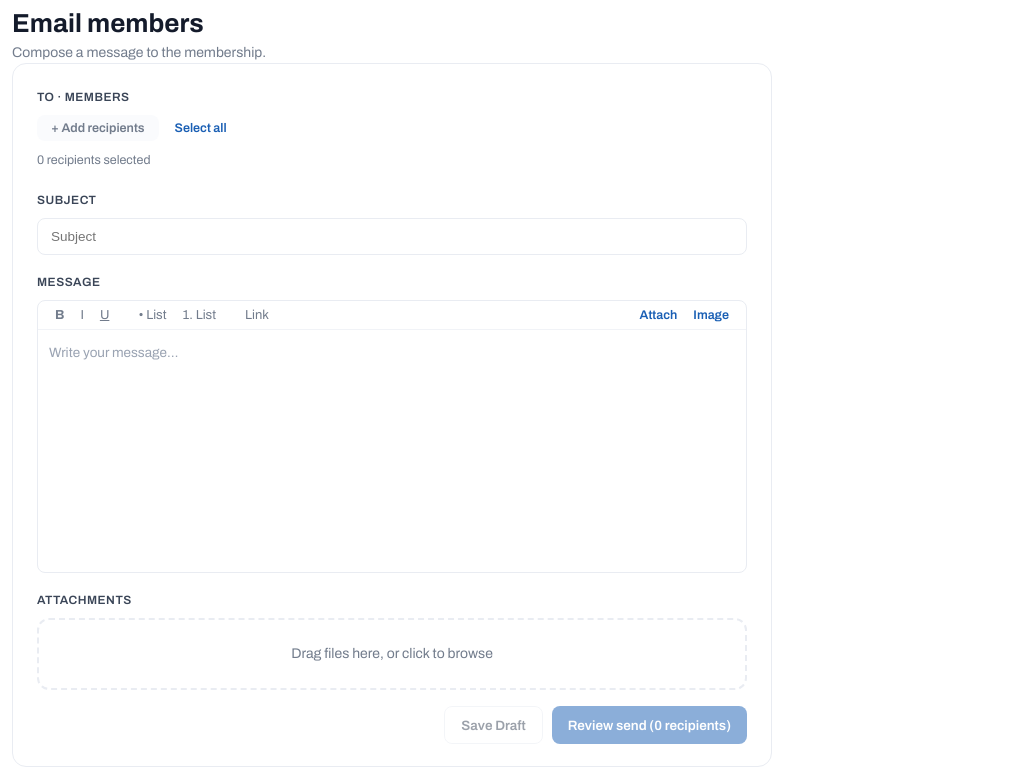
Test: MembersEmail › selects and clears every recipient via the top-level Select all action
The image size is (1036, 780).
Click the button "Select all": click(201, 128) [167,115,235,141]
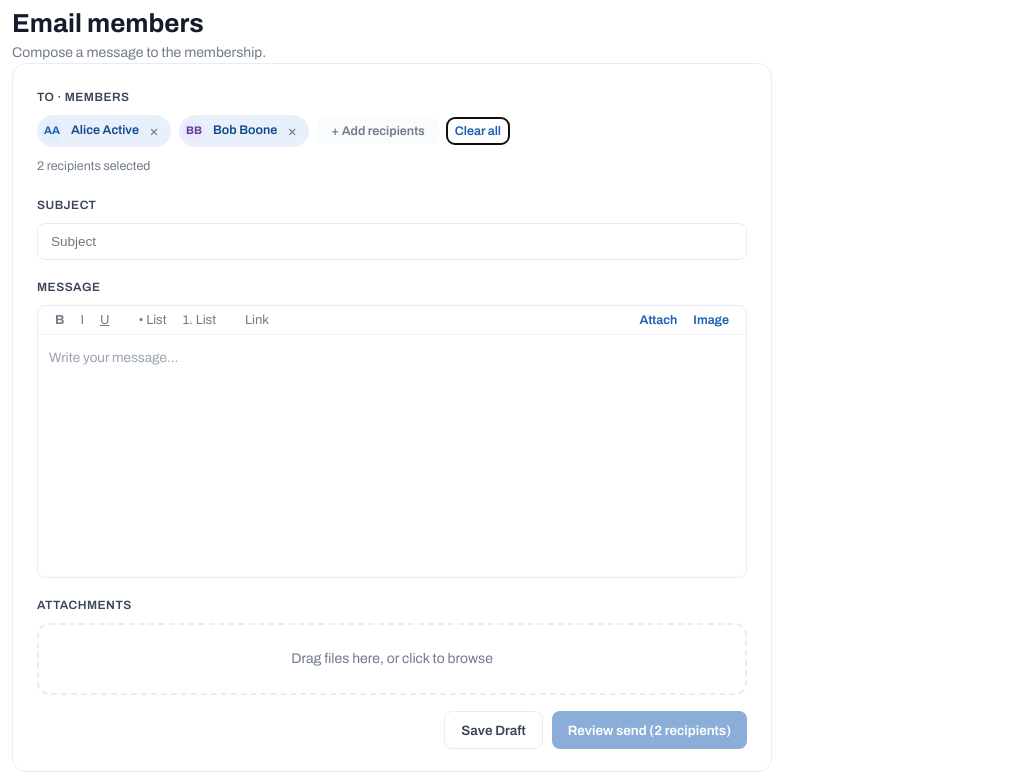
Result: the button "Review send (2 recipients)" is shown at [552,711,747,749]
Click the button "Clear all": click(478, 131) [447,118,509,144]
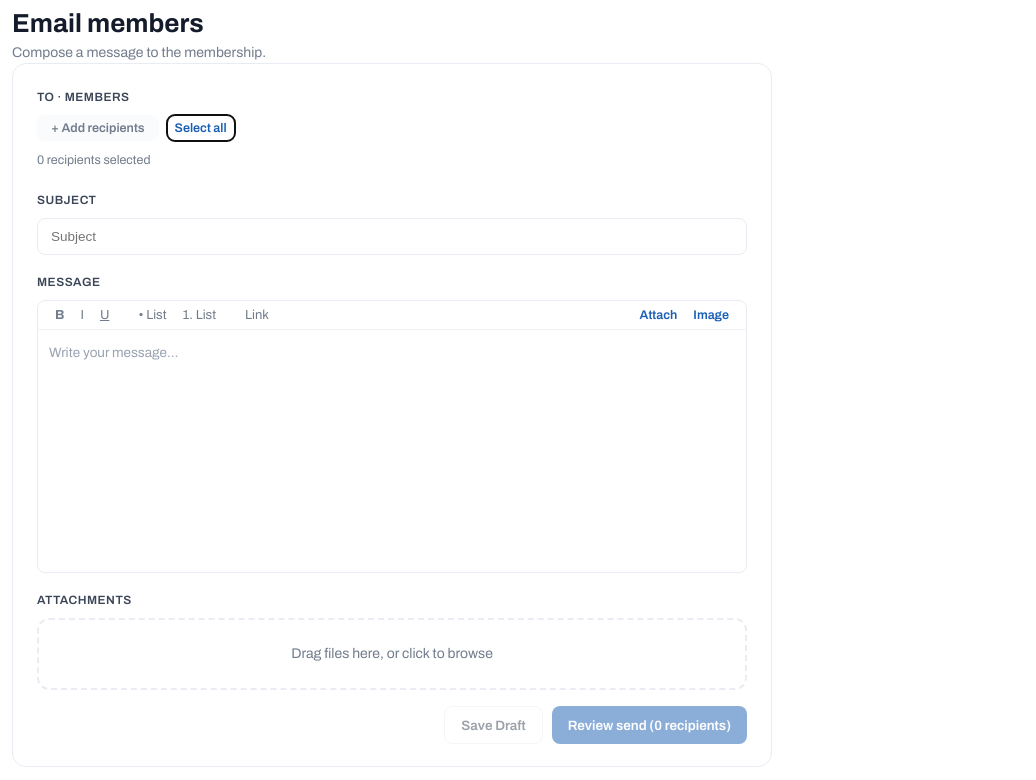
Result: the button "Review send (0 recipients)" is shown at [552,706,747,744]
